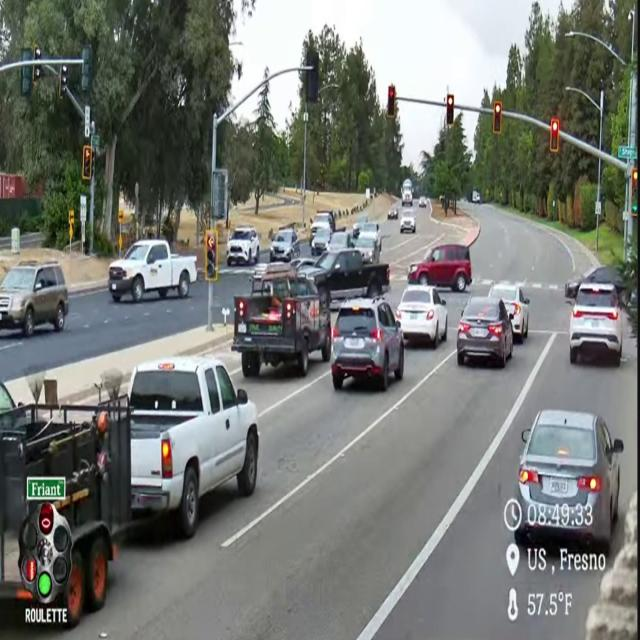car: (514, 410, 623, 554), (330, 297, 404, 391), (0, 261, 68, 337), (569, 283, 623, 366), (457, 297, 513, 367), (396, 285, 447, 348), (408, 244, 472, 292), (489, 283, 529, 343), (565, 266, 624, 299), (227, 227, 259, 266), (270, 227, 300, 262), (309, 211, 335, 244), (355, 235, 380, 263), (311, 228, 332, 255), (358, 222, 381, 246), (327, 231, 353, 251), (352, 214, 368, 239), (400, 209, 416, 233), (291, 258, 316, 270), (388, 208, 398, 220), (418, 196, 427, 208)
traffic signal: (306, 50, 319, 103), (205, 230, 218, 281), (21, 48, 32, 96), (81, 45, 92, 91), (82, 145, 92, 180), (550, 118, 559, 152), (493, 101, 502, 135), (387, 85, 396, 118), (59, 65, 68, 98), (631, 168, 637, 217), (446, 95, 454, 126), (32, 64, 41, 82)
truck: (0, 392, 130, 627), (129, 357, 258, 538), (231, 264, 331, 377), (108, 240, 196, 302), (299, 248, 390, 305), (309, 210, 336, 245), (402, 179, 414, 205)
